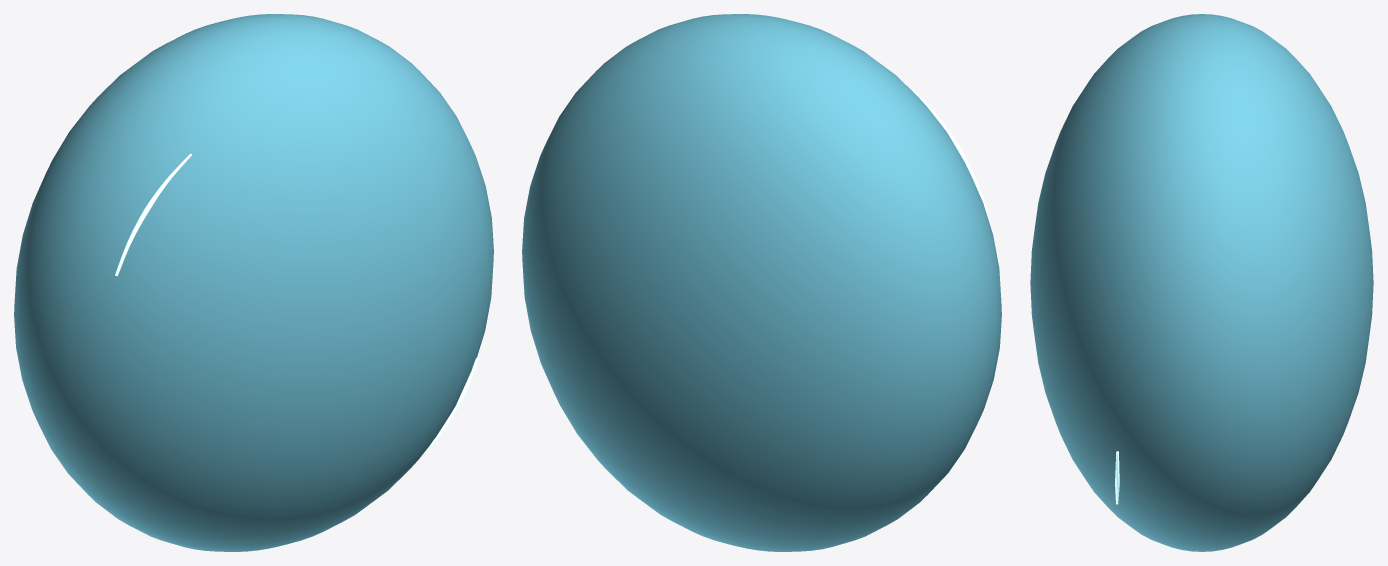
File: PIP_BUBBLE_FLOAT_FX.glb
3 views of the same model, side by side, from view 1: azimuth 30°, elevation 25°; view 2: azimuth 150°, elevation 25°; view 3: azimuth 270°, elevation 25° (orthographic). The views are drawn at different scales.
Parts seen in each view (by area): view 1: FX_Bubble_SingleShell; view 2: FX_Bubble_SingleShell; view 3: FX_Bubble_SingleShell.
Boxes of the visible parts, x1,y1,x2,y2 form: FX_Bubble_SingleShell: [14, 14, 493, 551]; FX_Bubble_SingleShell: [522, 14, 1001, 551]; FX_Bubble_SingleShell: [1030, 14, 1373, 551].
Size of the model in its own units: 2.56 by 2.8 by 1.76.
